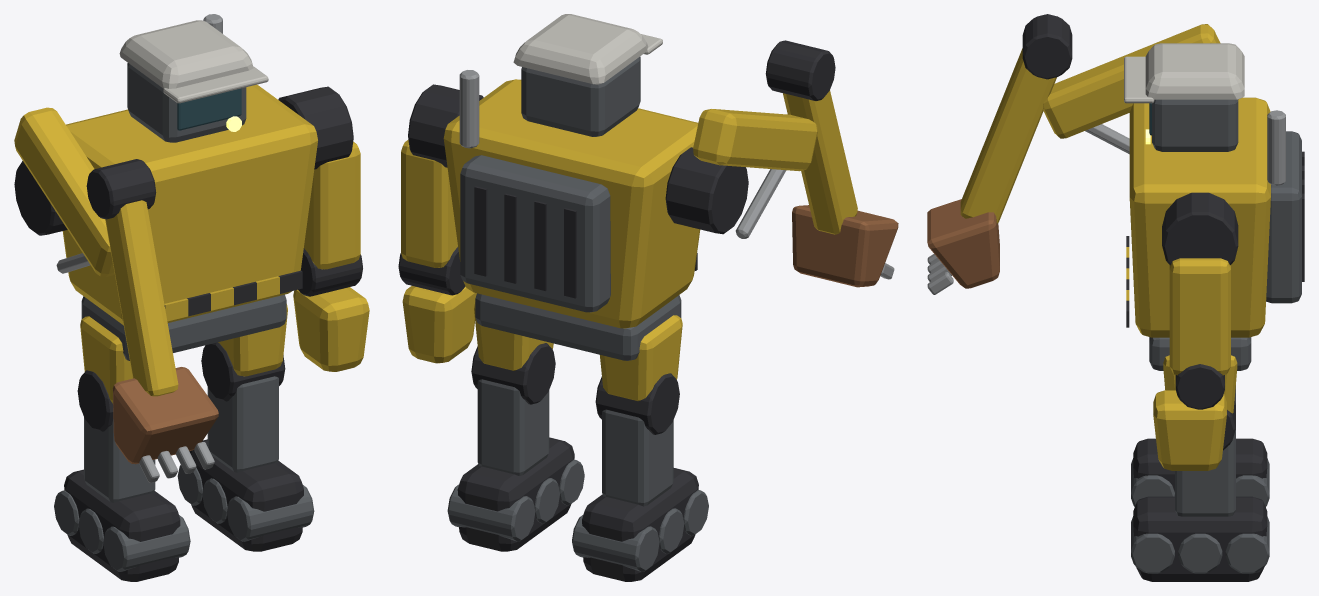
The model's file is escavadeira.glb.
3 renders of one model, left to right at view 1: azimuth 30°, elevation 25°; view 2: azimuth 150°, elevation 25°; view 3: azimuth 270°, elevation 25°, orthographic. The views are drawn at different scales.
Visible parts, largest first — view 1: escavadeira_16, escavadeira_42, escavadeira_40, escavadeira_44, escavadeira_32, escavadeira_36, escavadeira_12, escavadeira_01, escavadeira_38, escavadeira_08, escavadeira_15, escavadeira_05 (+17 smaller); view 2: escavadeira_16, escavadeira_24, escavadeira_40, escavadeira_30, escavadeira_32, escavadeira_44, escavadeira_15, escavadeira_12, escavadeira_05, escavadeira_36, escavadeira_42, escavadeira_01 (+22 smaller); view 3: escavadeira_16, escavadeira_36, escavadeira_42, escavadeira_08, escavadeira_32, escavadeira_40, escavadeira_38, escavadeira_24, escavadeira_44, escavadeira_35, escavadeira_30, escavadeira_12 (+13 smaller).
Part boxes in pixels (x1,y1,x2,y2): escavadeira_16: (62,84,317,325); escavadeira_42: (105,200,178,396); escavadeira_40: (14,107,114,276); escavadeira_44: (112,367,218,464); escavadeira_32: (119,20,253,88); escavadeira_36: (304,142,360,269); escavadeira_12: (207,376,278,472); escavadeira_01: (64,469,180,581); escavadeira_38: (293,287,369,371); escavadeira_08: (189,439,303,551); escavadeira_15: (81,294,286,360); escavadeira_05: (84,417,155,502); escavadeira_16: (443,79,700,328); escavadeira_24: (460,155,610,312); escavadeira_40: (693,109,817,171); escavadeira_30: (521,56,640,136); escavadeira_32: (513,14,648,84); escavadeira_44: (792,205,898,287); escavadeira_15: (475,293,681,360); escavadeira_12: (477,379,549,475); escavadeira_05: (602,409,673,506); escavadeira_36: (401,140,457,267); escavadeira_42: (783,90,857,234); escavadeira_01: (582,468,698,581); escavadeira_16: (1129,97,1270,337); escavadeira_36: (1169,258,1230,375); escavadeira_42: (960,48,1056,223); escavadeira_08: (1133,496,1267,581); escavadeira_32: (1145,43,1244,99); escavadeira_40: (1043,24,1220,138); escavadeira_38: (1153,390,1226,470); escavadeira_24: (1266,131,1301,303); escavadeira_44: (927,199,999,288); escavadeira_35: (1162,192,1238,265); escavadeira_30: (1152,99,1238,151); escavadeira_12: (1175,429,1235,516).
Size of the model in its own units: 1.52 by 2.11 by 1.48.
